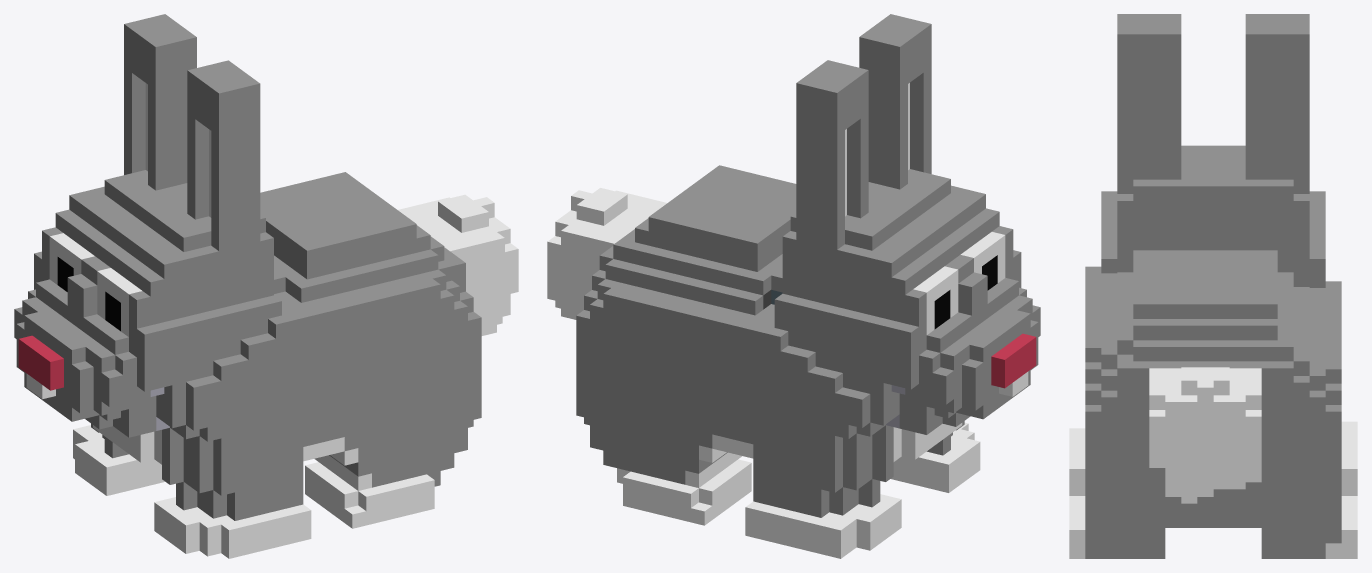
File: Conejo.obj
3 views of the same model, side by side, from view 1: azimuth 30°, elevation 25°; view 2: azimuth 150°, elevation 25°; view 3: azimuth 270°, elevation 25° (orthographic).
Size of the model in its own units: 3.3 by 3.1 by 1.8.
